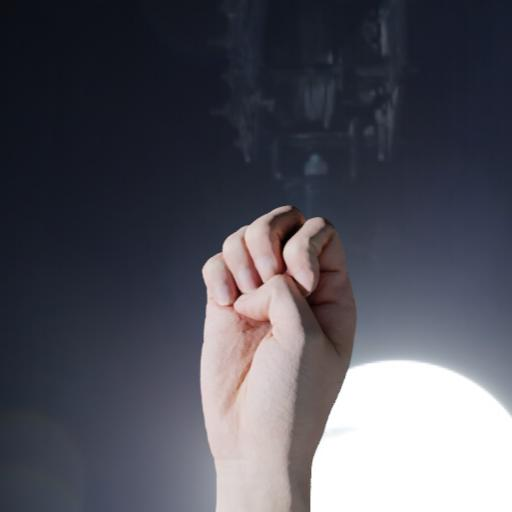E: (192, 204, 360, 450)
